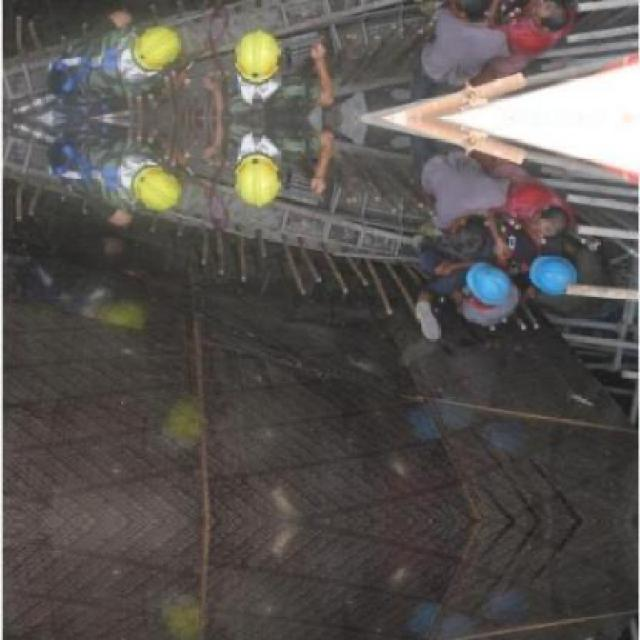con casco: (448, 250, 514, 332), (536, 247, 589, 322)
